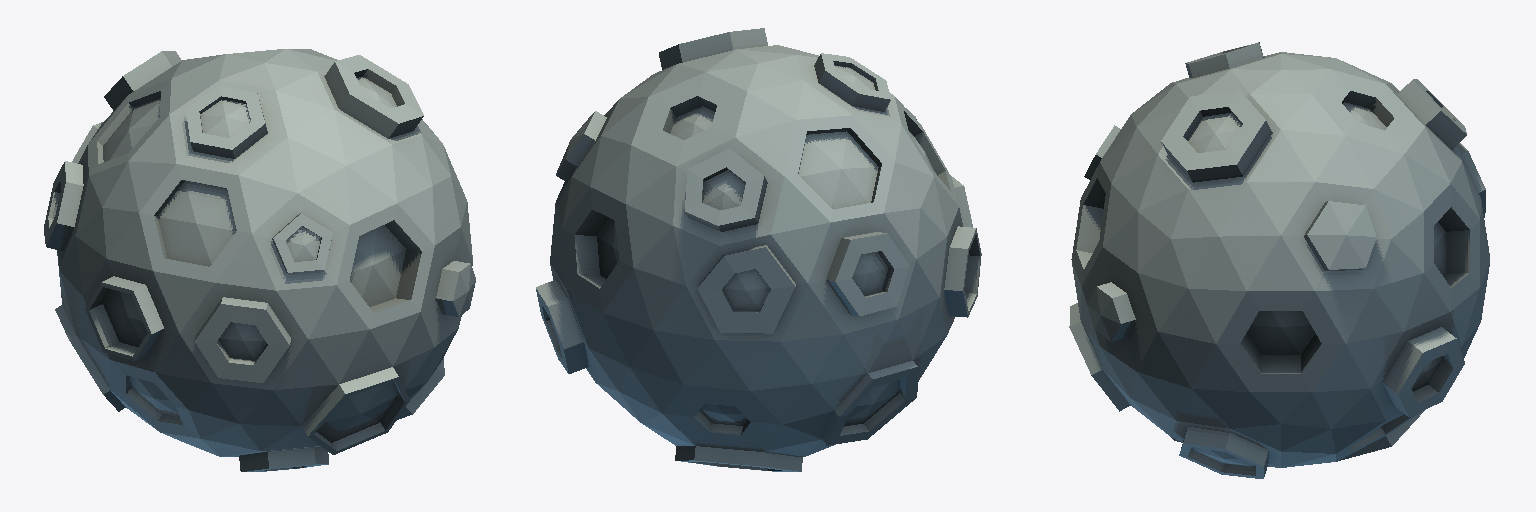
3 renders of one model, left to right at view 1: azimuth 30°, elevation 25°; view 2: azimuth 150°, elevation 25°; view 3: azimuth 270°, elevation 25°, orthographic.
Parts seen in each view (by area): view 1: moon; view 2: moon; view 3: moon.
Part boxes in pixels (x1,y1,x2,y2): moon: (44, 49, 475, 471); moon: (536, 28, 981, 471); moon: (1069, 42, 1489, 478).
Size of the model in its own units: 1.63 by 1.66 by 1.63.
Materials: 1 (1 with a texture image).